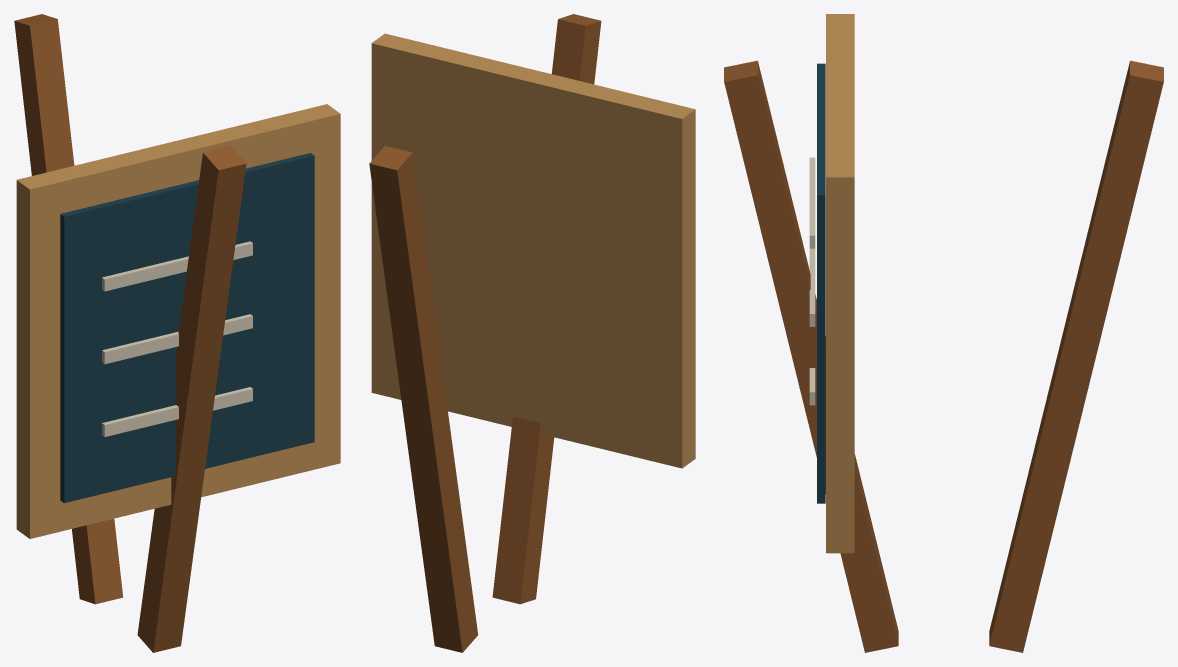
The model's file is menu_sign.glb.
3 views of the same model, side by side, from view 1: azimuth 30°, elevation 25°; view 2: azimuth 150°, elevation 25°; view 3: azimuth 270°, elevation 25° (orthographic). The views are drawn at different scales.
Visible parts, largest first — view 1: menu_sign_pc; view 2: menu_sign_pc; view 3: menu_sign_pc.
Boxes of the visible parts, left/top/right/bottom form: menu_sign_pc: left=14, top=14, right=340, bottom=652; menu_sign_pc: left=369, top=14, right=695, bottom=652; menu_sign_pc: left=724, top=14, right=1163, bottom=652.
Size of the model in its own units: 0.67 by 1.11 by 0.763.
